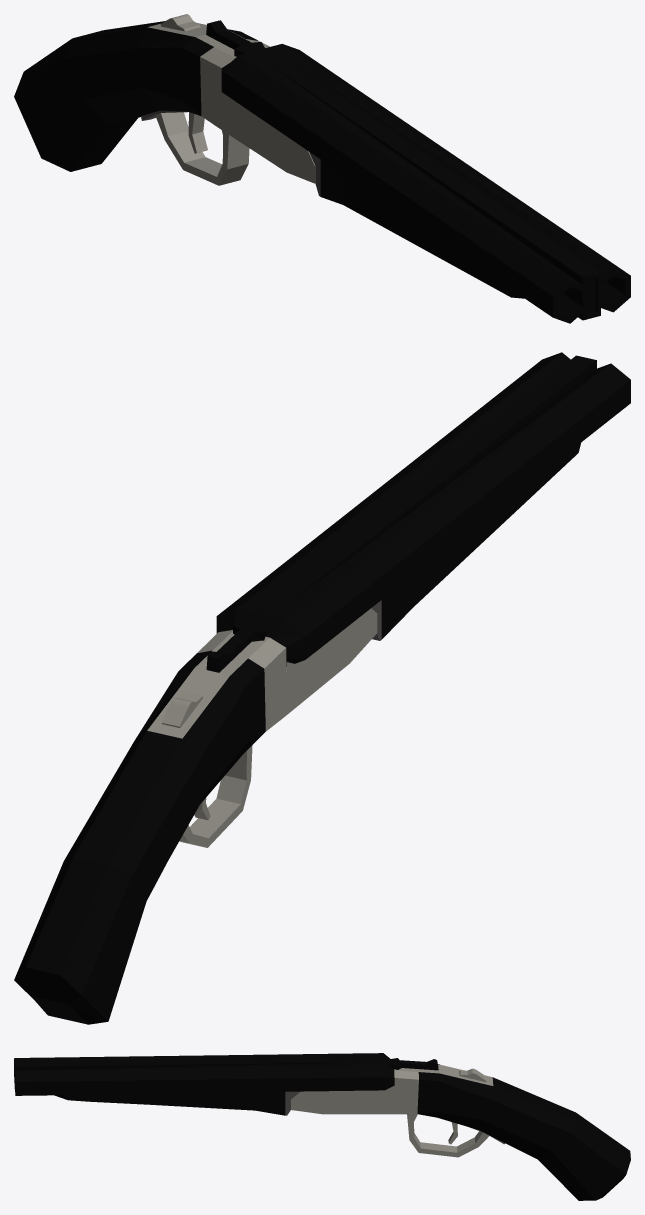
The model's file is o2_Weapons_Shotgun_SawedOff.fbx.
3 renders of one model, top to bottom at view 1: azimuth 30°, elevation 25°; view 2: azimuth 150°, elevation 25°; view 3: azimuth 270°, elevation 25°, orthographic. The views are drawn at different scales.
Visible parts, largest first — view 1: o2_Weapons_Shotgun_SawedOff_Barrel, o2_Weapons_Shotgun_SawedOff, o2_Weapons_Shotgun_SawedOff_ReloadClip01, o2_Weapons_Shotgun_SawedOff_Trigger; view 2: o2_Weapons_Shotgun_SawedOff, o2_Weapons_Shotgun_SawedOff_Barrel, o2_Weapons_Shotgun_SawedOff_ReloadClip01; view 3: o2_Weapons_Shotgun_SawedOff, o2_Weapons_Shotgun_SawedOff_Barrel, o2_Weapons_Shotgun_SawedOff_ReloadClip01.
Boxes of the visible parts, <box> form: o2_Weapons_Shotgun_SawedOff_Barrel: <box>232,51,630,323</box>; o2_Weapons_Shotgun_SawedOff: <box>14,14,315,185</box>; o2_Weapons_Shotgun_SawedOff_ReloadClip01: <box>206,20,264,56</box>; o2_Weapons_Shotgun_SawedOff_Trigger: <box>188,112,207,153</box>; o2_Weapons_Shotgun_SawedOff: <box>14,601,377,1024</box>; o2_Weapons_Shotgun_SawedOff_Barrel: <box>227,352,630,651</box>; o2_Weapons_Shotgun_SawedOff_ReloadClip01: <box>206,620,267,672</box>; o2_Weapons_Shotgun_SawedOff: <box>291,1053,630,1200</box>; o2_Weapons_Shotgun_SawedOff_Barrel: <box>14,1053,372,1115</box>; o2_Weapons_Shotgun_SawedOff_ReloadClip01: <box>388,1058,438,1070</box>.
Bounding box in the file's own units: 8.01 × 18.43 × 73.86.
